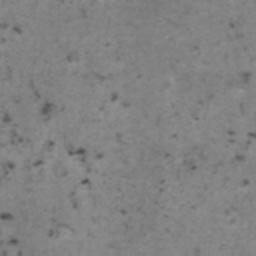Oxide scale of temperature system: (0, 42, 134, 256), (159, 97, 256, 227), (0, 20, 24, 36), (239, 69, 252, 83), (192, 247, 204, 256), (120, 207, 128, 216), (229, 20, 236, 29)
